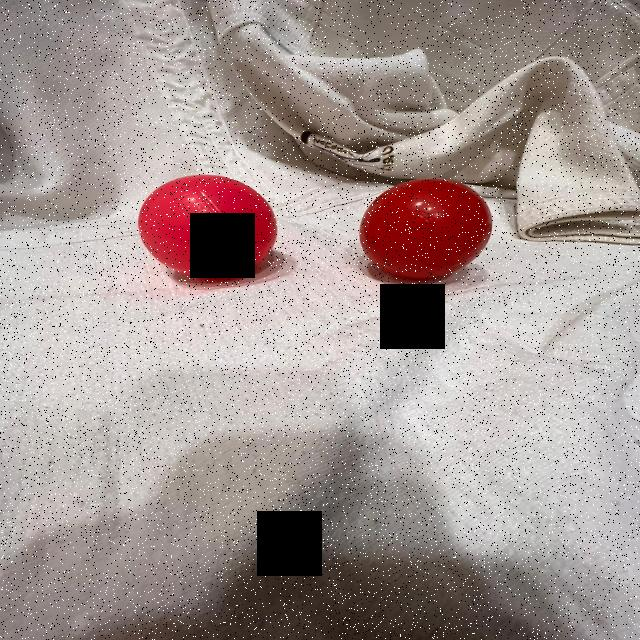ball: (137, 174, 280, 279), (359, 175, 494, 281)
